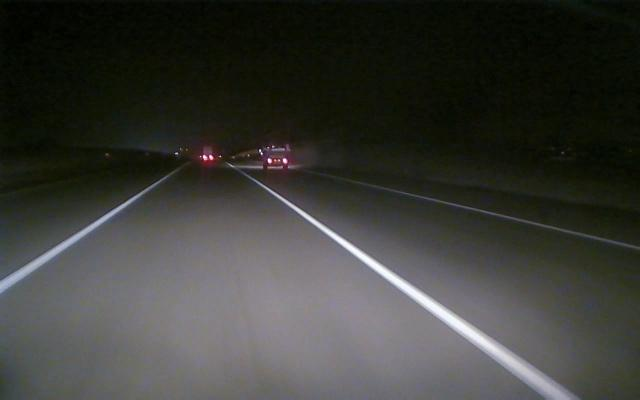lane: (258, 183, 582, 399), (3, 180, 162, 292), (375, 185, 640, 250)
